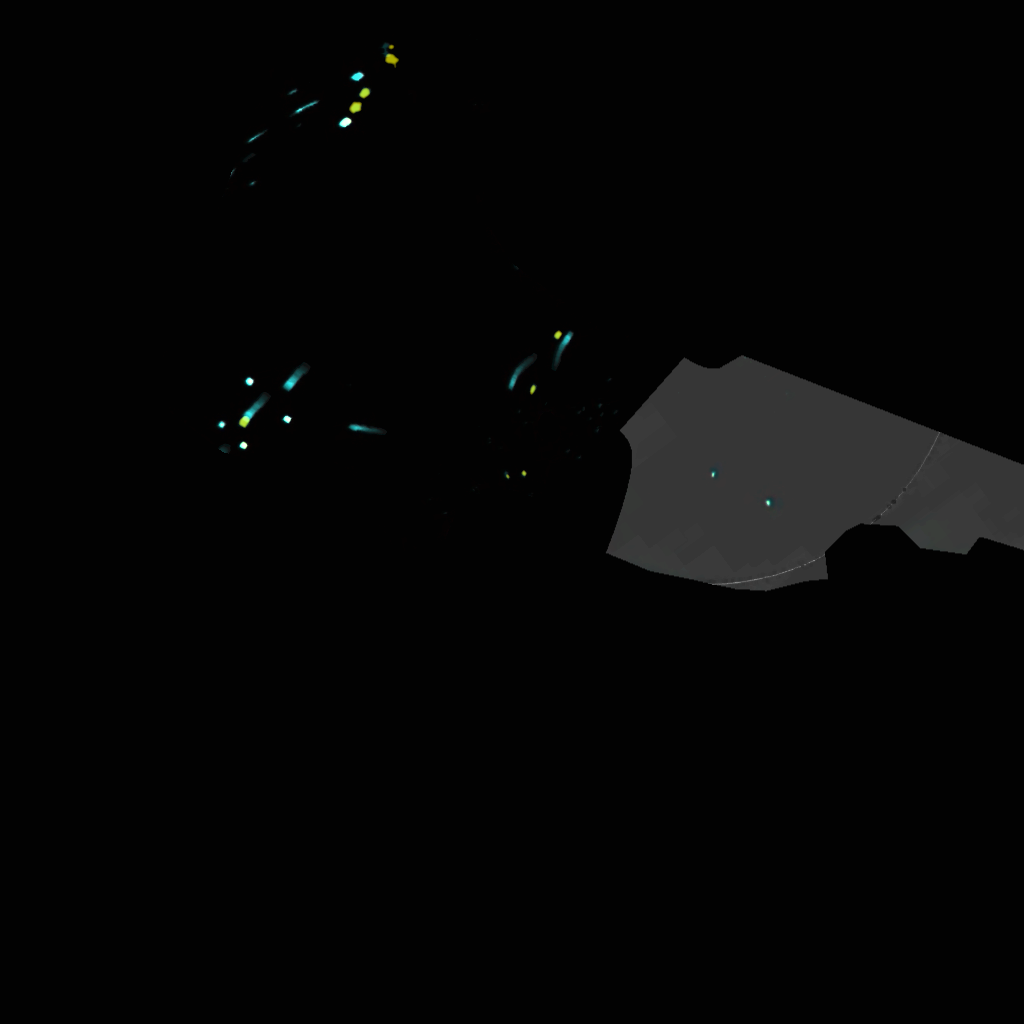B: (506, 357, 525, 393), (234, 402, 266, 421), (553, 331, 572, 359), (350, 420, 375, 439), (281, 371, 304, 390)
